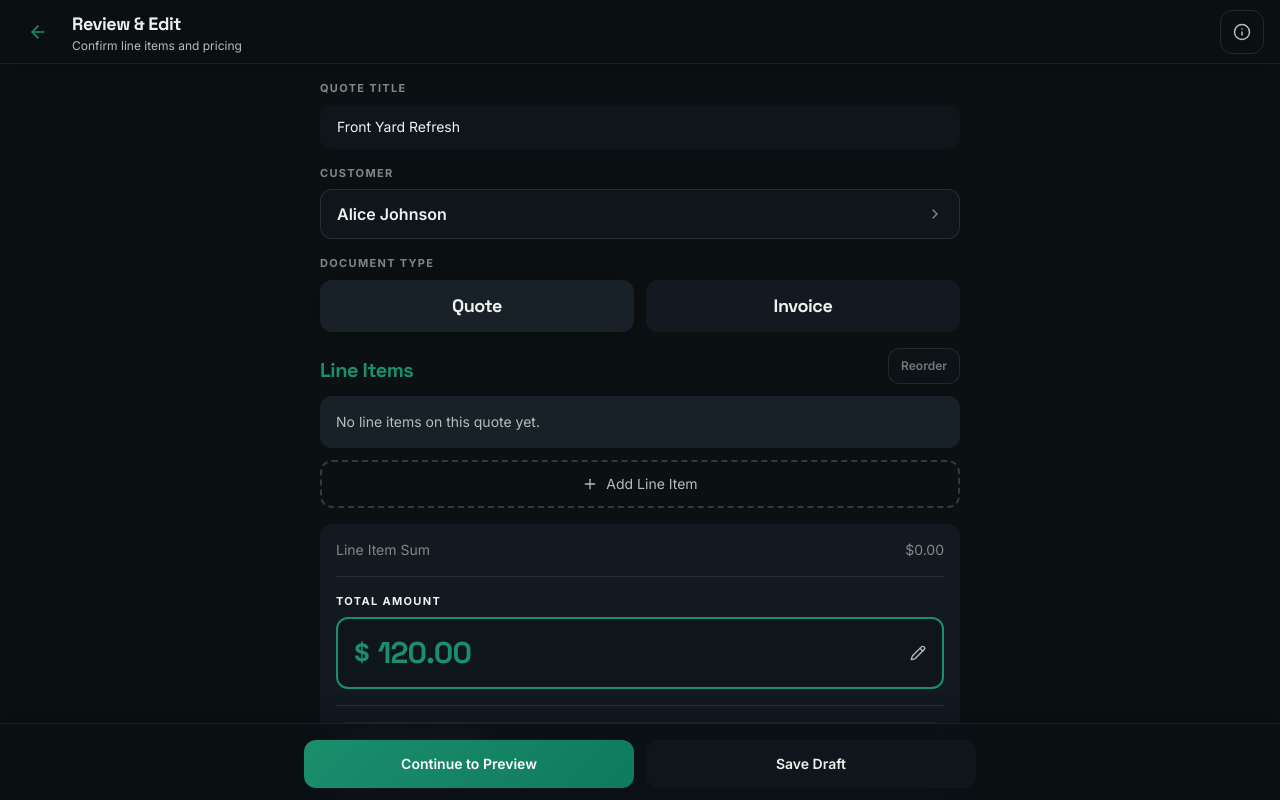
DocumentEditScreen line item catalog integration › loads catalog on tab activation and inserts selected item into local draft
This screenshot has width=1280, height=800.
Click the button "Add Line Item": (640, 484) x1=320 y1=460 x2=960 y2=508
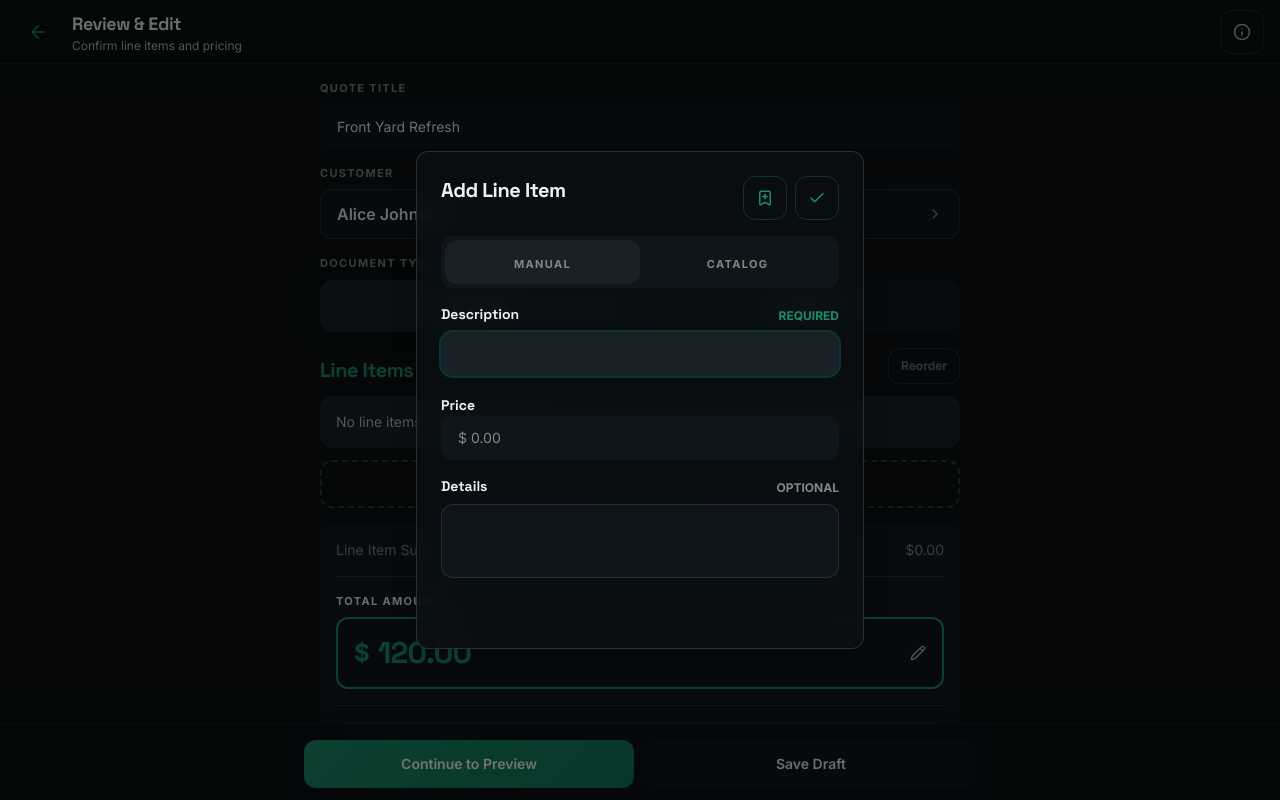
Click the tab "Catalog": (738, 262) x1=640 y1=240 x2=835 y2=284
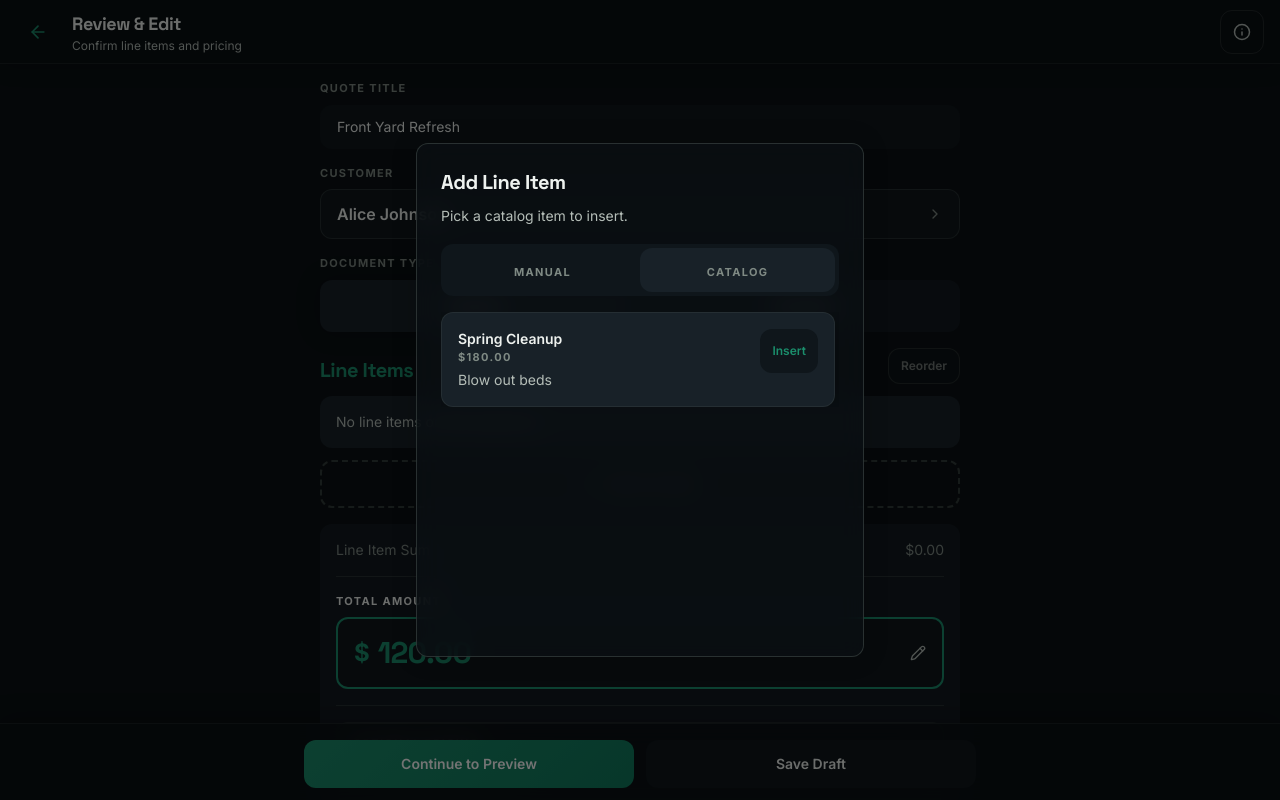
Click the button "Insert": (789, 351) x1=760 y1=329 x2=818 y2=373
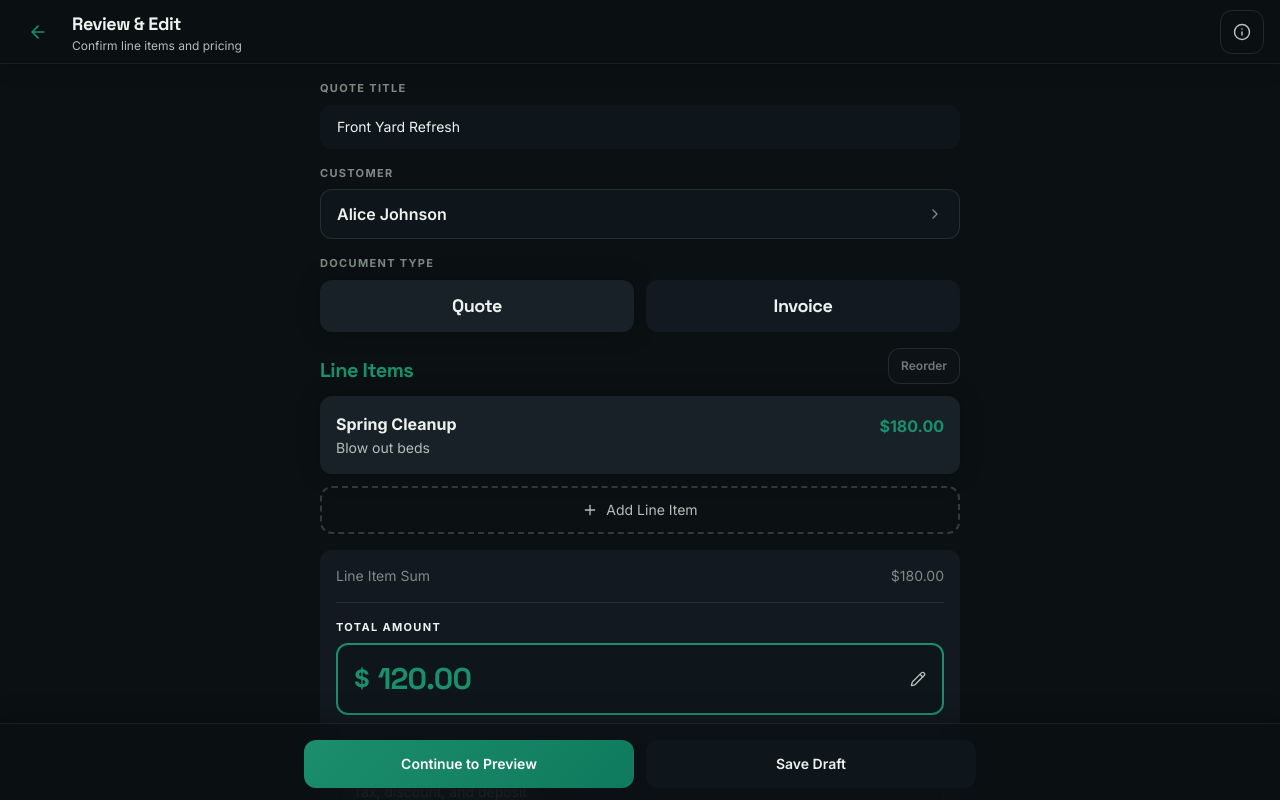
Expected: the button with aria-label "edit line item 1: spring cleanup" is shown, x1=332 y1=408 x2=948 y2=462
